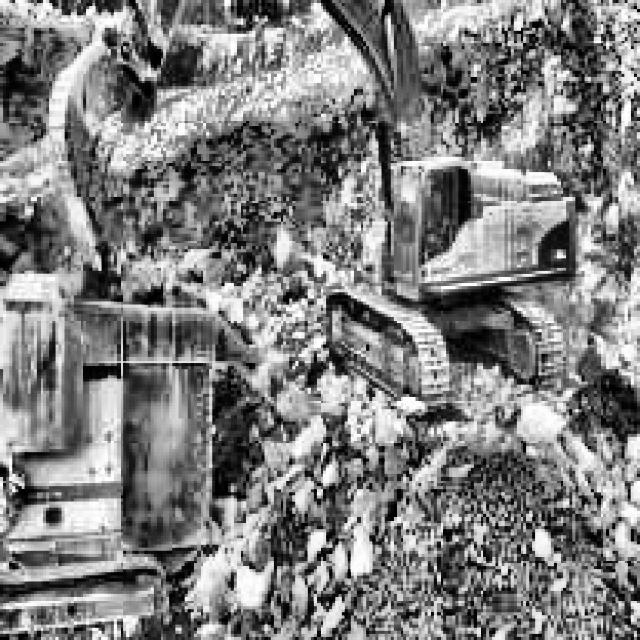excavator: (43, 0, 572, 394)
